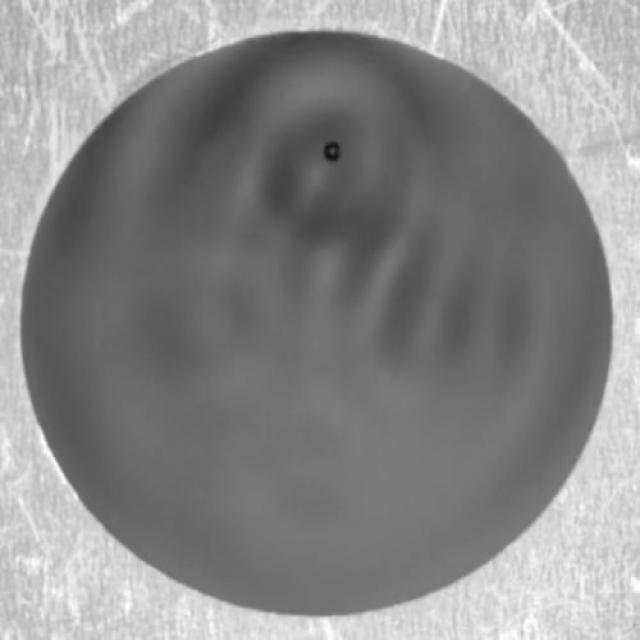droplet: (324, 143, 343, 161)
